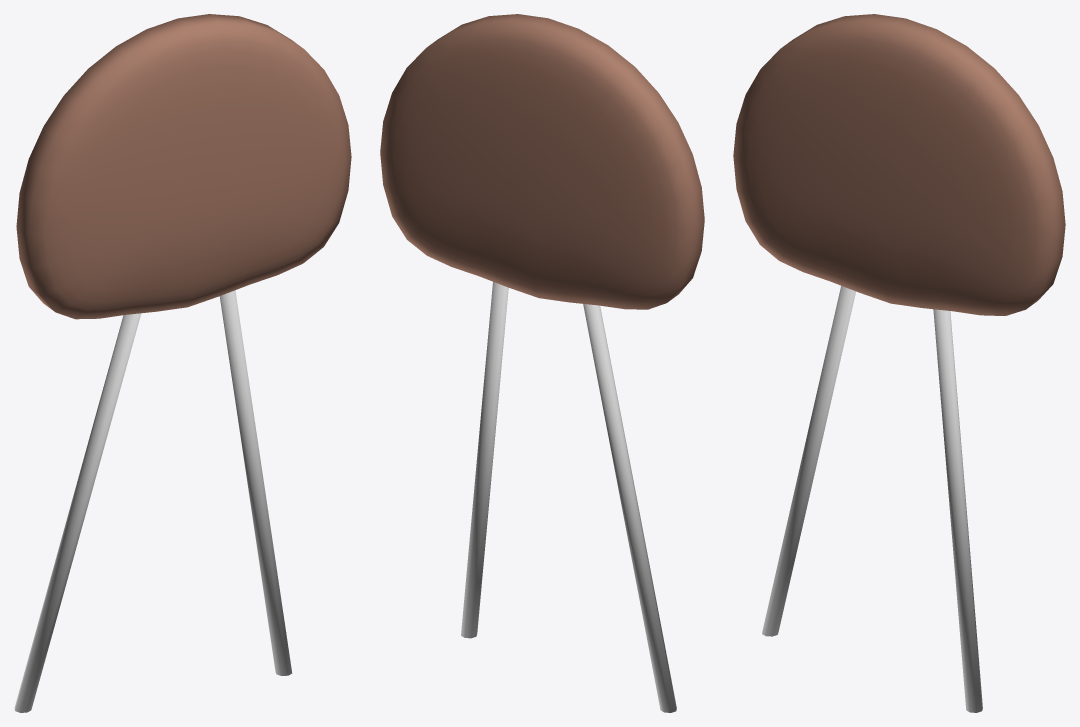
Rendered from Capacitor.fbx.
3 views of the same model, side by side, from view 1: azimuth 30°, elevation 25°; view 2: azimuth 150°, elevation 25°; view 3: azimuth 330°, elevation 25° (orthographic). The views are drawn at different scales.
Parts seen in each view (by area): view 1: Capacitor; view 2: Capacitor; view 3: Capacitor.
Part boxes in pixels (x1,y1,x2,y2): Capacitor: (14,14,351,712); Capacitor: (380,14,704,712); Capacitor: (733,14,1065,712).
Size of the model in its own units: 21.27 by 41.71 by 4.39.
